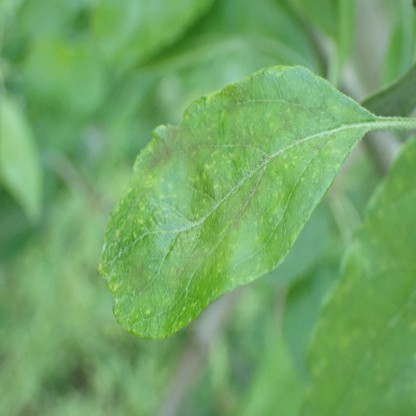scab: (143, 126, 181, 175), (170, 242, 211, 284), (231, 181, 261, 234), (117, 249, 149, 290), (283, 94, 333, 116), (182, 126, 217, 157), (229, 124, 252, 158), (275, 118, 303, 142), (224, 86, 246, 112), (252, 130, 271, 155), (327, 100, 345, 118)
